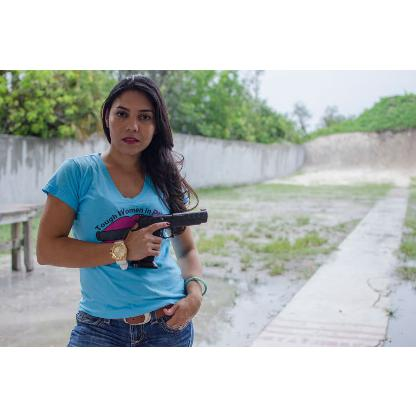gun: (133, 206, 207, 270)
